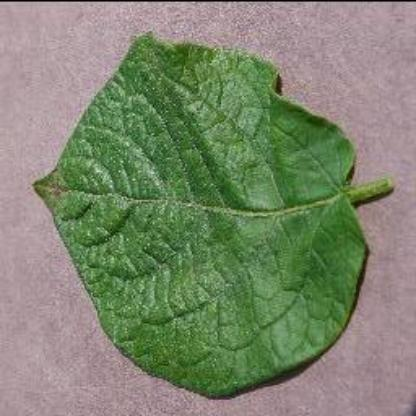Healthy-plant: (32, 30, 404, 402)
